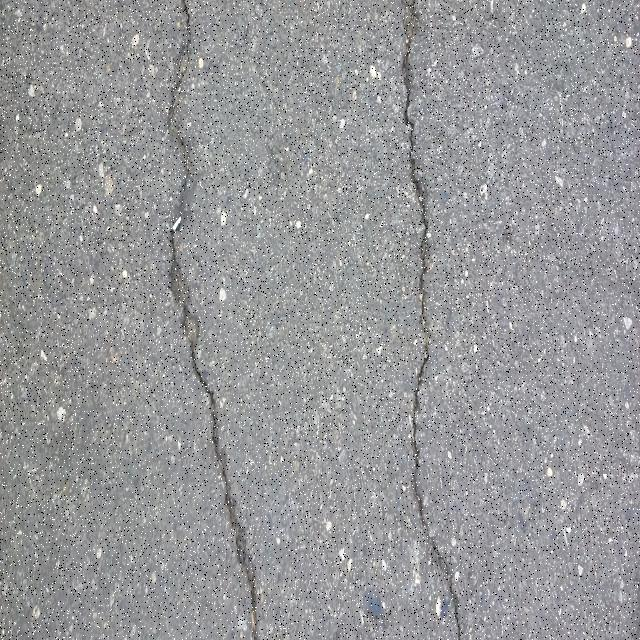Crack: (167, 0, 260, 640), (400, 2, 465, 640)
